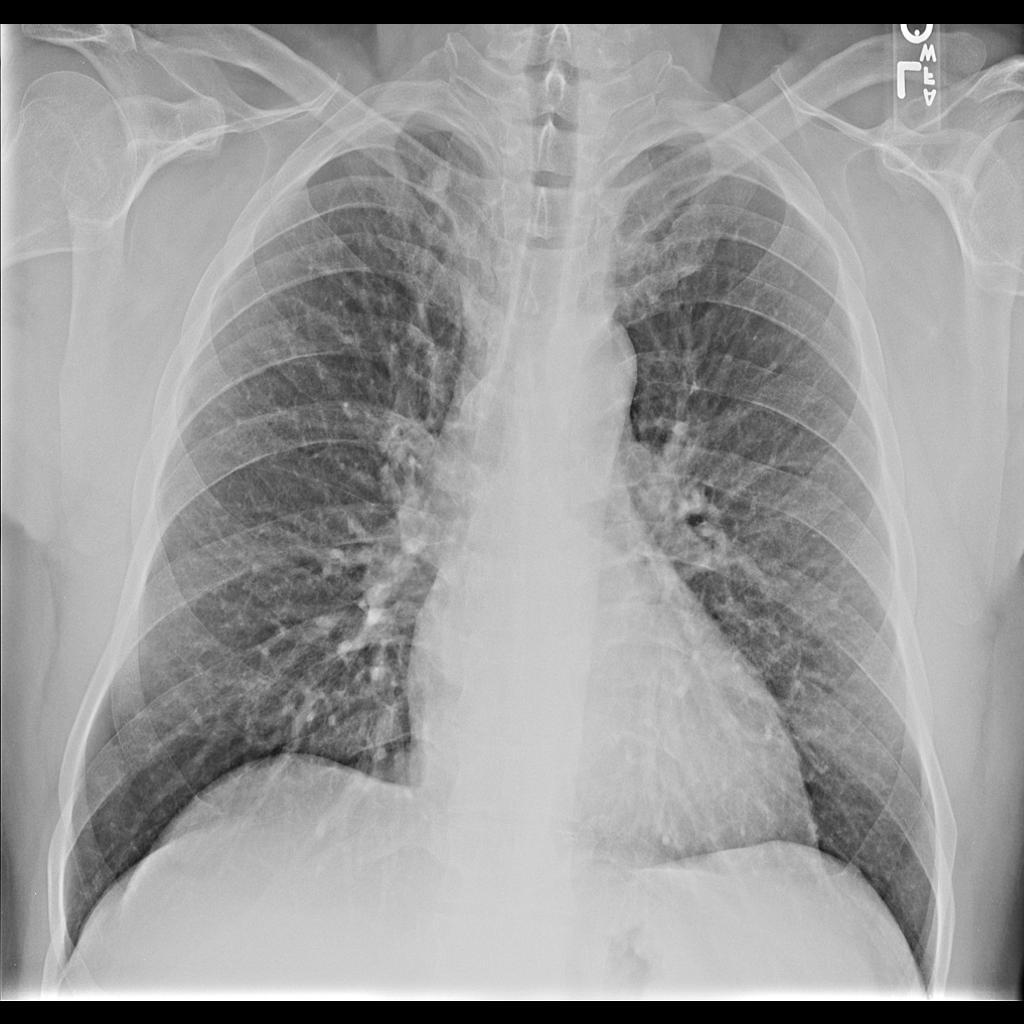Nodule: (414, 155, 456, 209)
